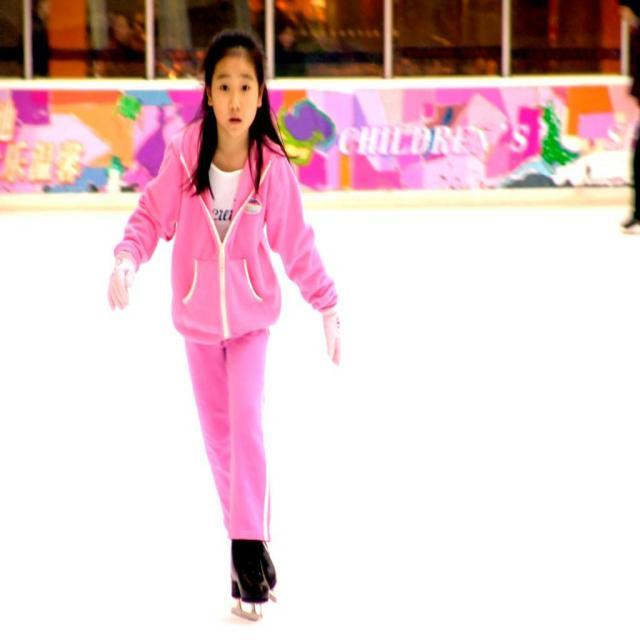Nonhelmet: (182, 27, 291, 150)
